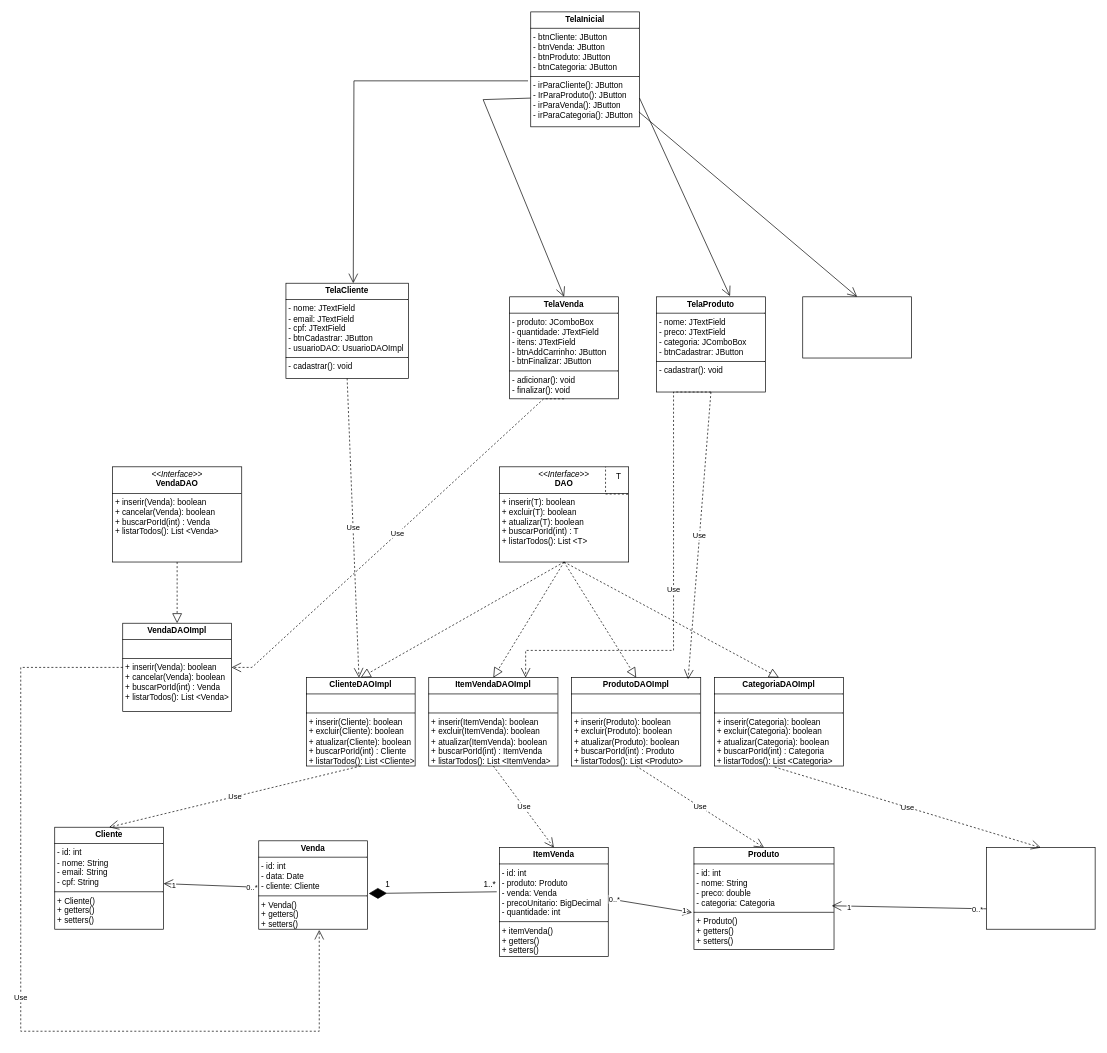
The diagram is 1107 pixels wide and 1053 high, and some of its shapes have lost their labels. Each missing label, with the centre of its shape:
Categoria - id: int - nome: String + Categoria() + getters() + setters(): pixel 1040 888
TelaCategoria - nome: JTextField - btnCadastrar: JButton - cadastrar(): void: pixel 857 327
